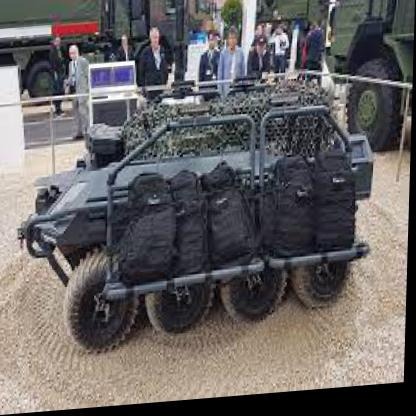UGV: (17, 81, 377, 361)
